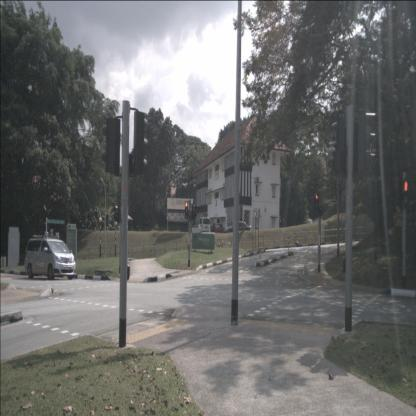vehicle-car: (24, 238, 76, 280), (225, 221, 251, 235), (197, 218, 211, 234), (211, 223, 224, 235), (313, 218, 324, 226)
